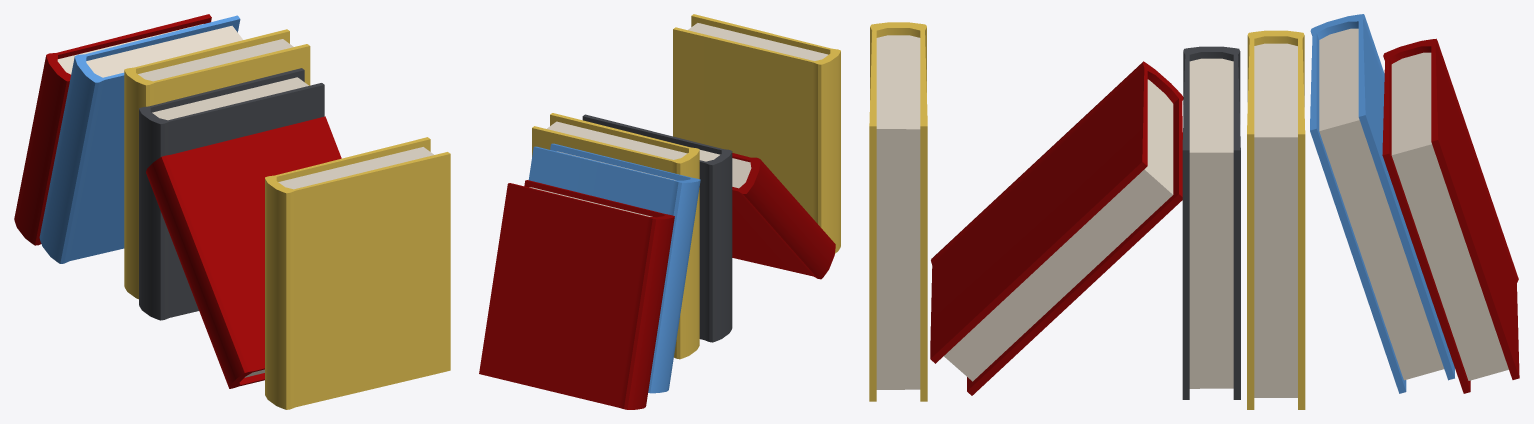
File: BookPile7.fbx
3 views of the same model, side by side, from view 1: azimuth 30°, elevation 25°; view 2: azimuth 150°, elevation 25°; view 3: azimuth 270°, elevation 25° (orthographic). The views are drawn at different scales.
Parts seen in each view (by area): view 1: polySurface102; view 2: polySurface102; view 3: polySurface102.
Part boxes in pixels (left/top/right/bottom): polySurface102: left=14, top=14, right=450, bottom=409; polySurface102: left=479, top=14, right=840, bottom=409; polySurface102: left=869, top=14, right=1519, bottom=409.
Size of the model in its own units: 0.5216 by 0.571 by 1.2.
